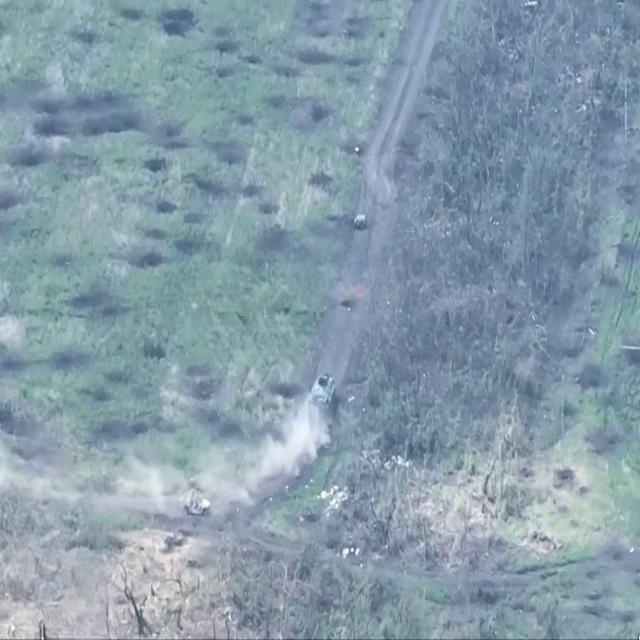APC: (306, 372, 339, 426)
Vehicle: (181, 488, 213, 523)
